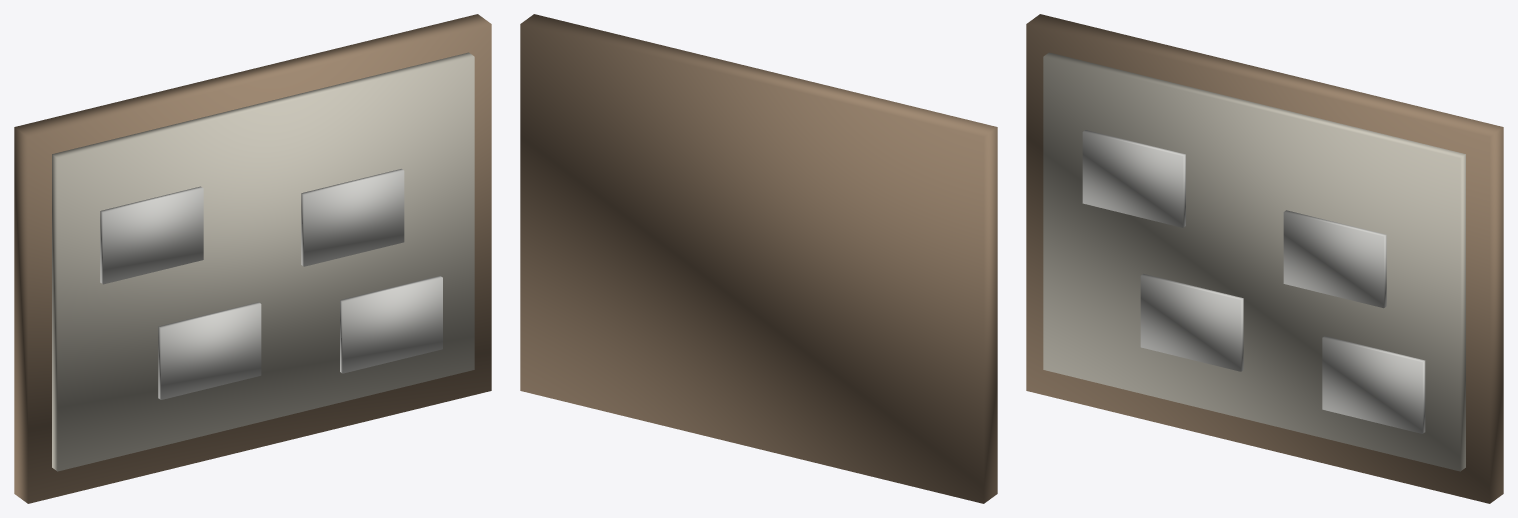
Rendered from timetable_board__compact.glb.
The picture shows the model from 3 angles, left to right: view 1: azimuth 30°, elevation 25°; view 2: azimuth 150°, elevation 25°; view 3: azimuth 330°, elevation 25°; orthographic projection.
Parts seen in each view (by area): view 1: world; view 2: world; view 3: world.
Part boxes in pixels (x1,y1,x2,y2): world: (14, 14, 491, 503); world: (520, 14, 997, 503); world: (1026, 14, 1503, 503).
Size of the model in its own units: 1.01 by 0.7626 by 0.0869.
